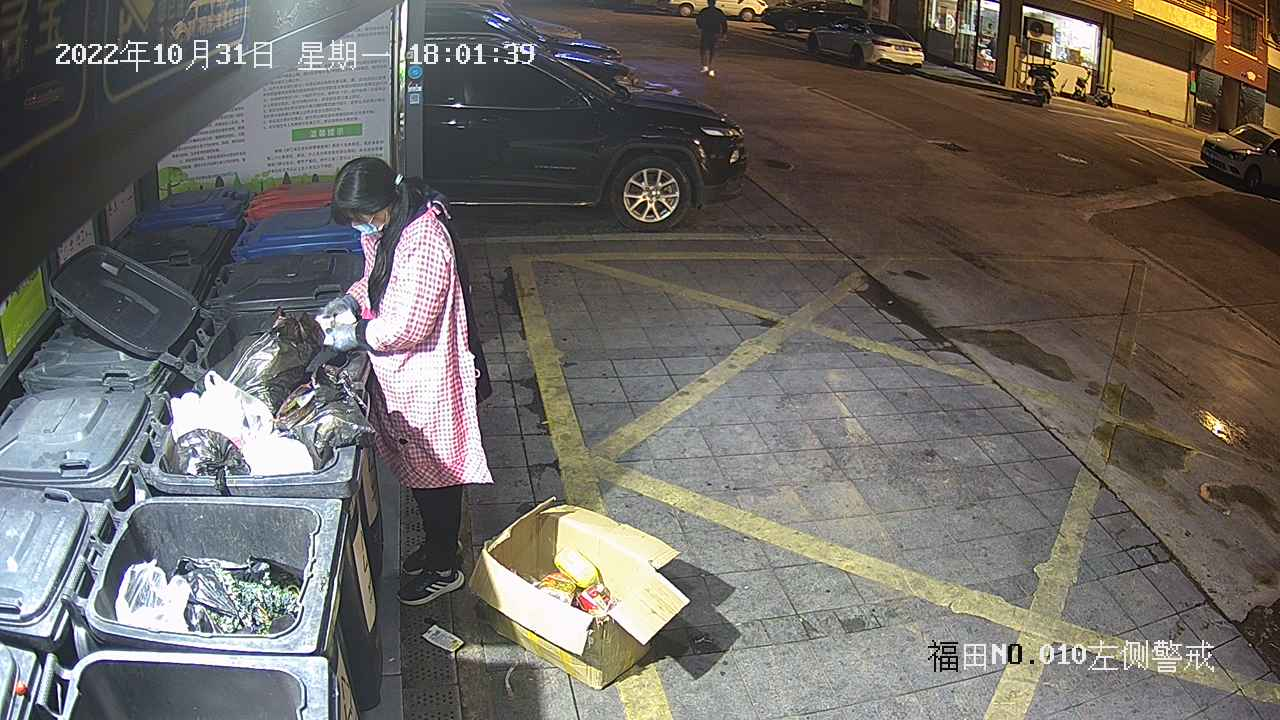person: (314, 155, 495, 606)
suliaozhipin: (420, 619, 466, 653)
zhizhipin: (467, 495, 692, 694)
